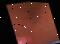plaque psoriasis: (13, 32, 30, 44)
